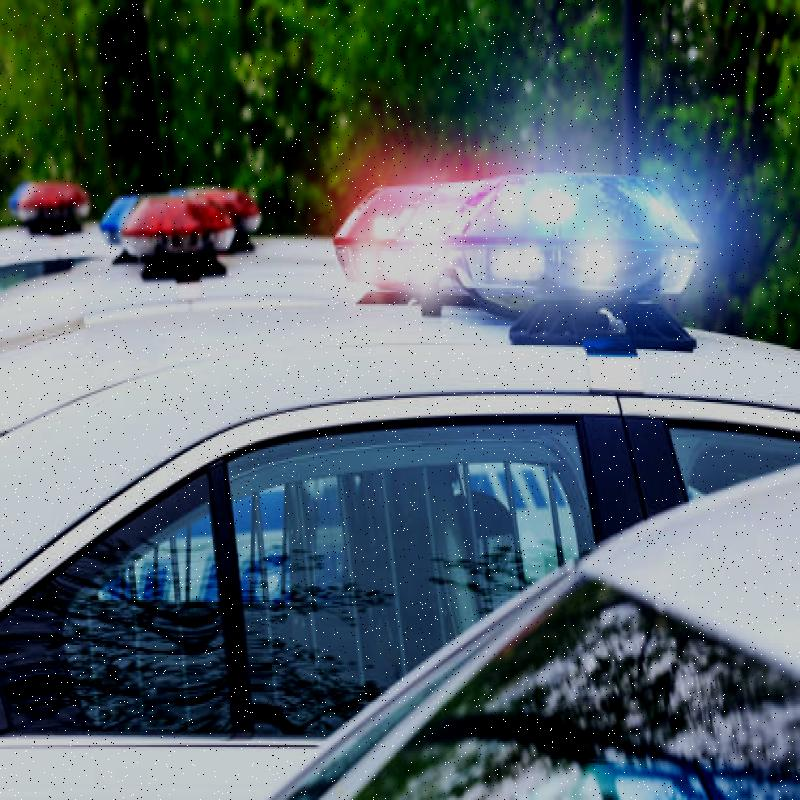AmbulanceSiren: (321, 128, 712, 381)
